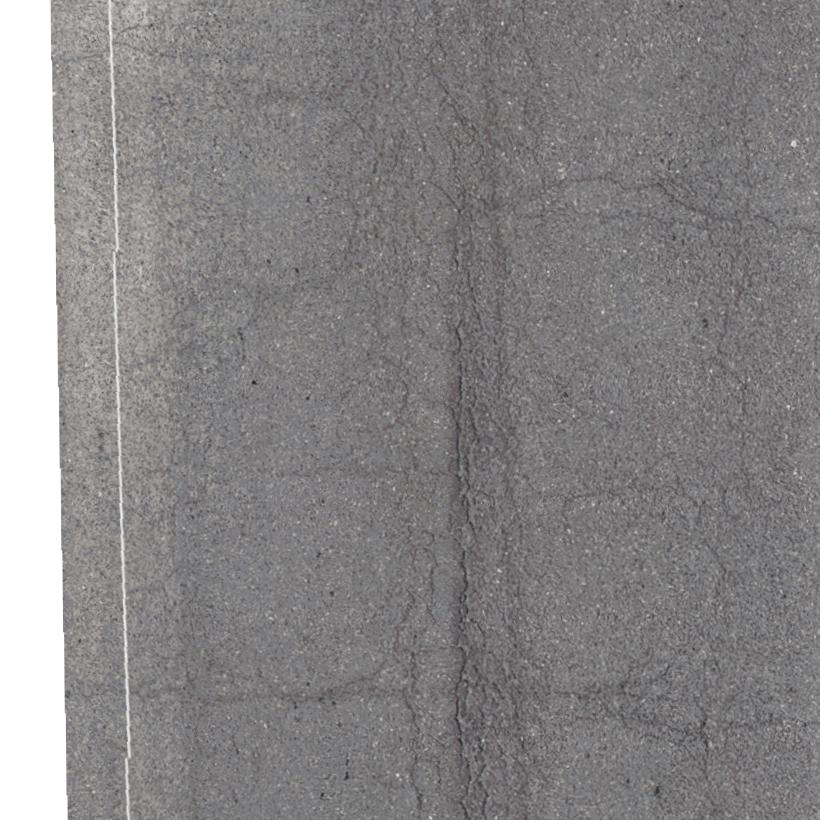PIEL DE COCODRILO: (306, 0, 571, 819), (128, 391, 283, 819), (126, 0, 282, 390), (579, 203, 785, 437), (581, 654, 819, 819), (615, 444, 819, 577), (647, 37, 775, 212)
